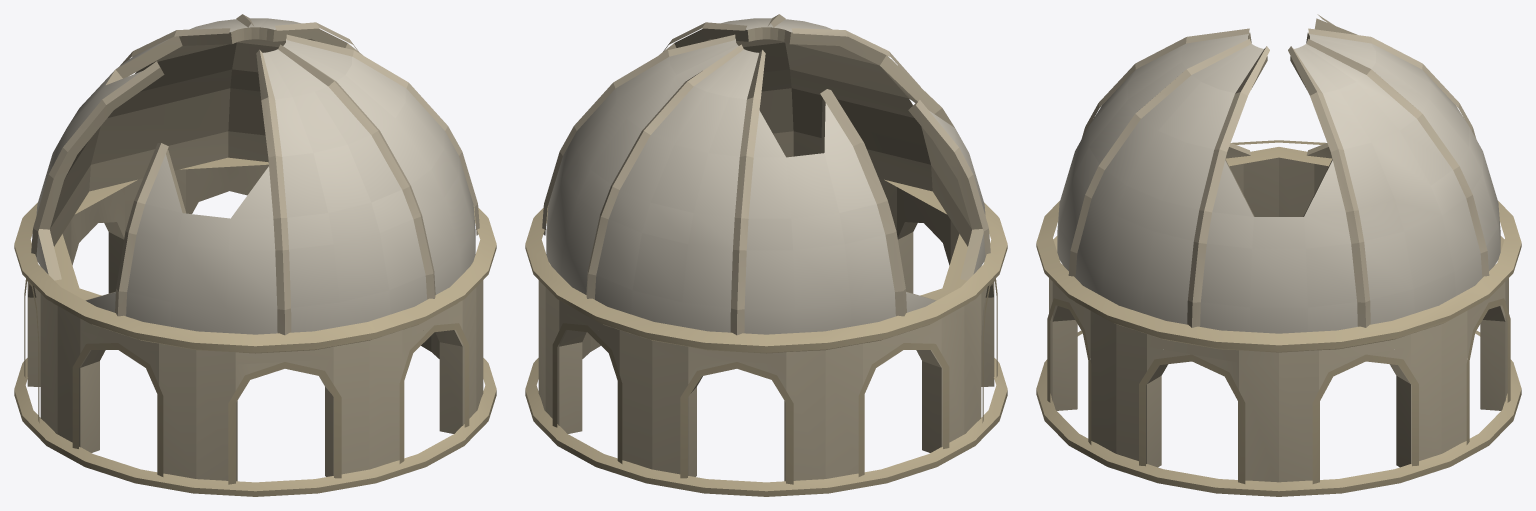
File: dome.ruin_8.plaster.glb
3 renders of one model, left to right at view 1: azimuth 30°, elevation 25°; view 2: azimuth 150°, elevation 25°; view 3: azimuth 270°, elevation 25°, orthographic.
Parts seen in each view (by area): view 1: dome_ruin_8_plaster; view 2: dome_ruin_8_plaster; view 3: dome_ruin_8_plaster.
Part boxes in pixels (x1,y1,x2,y2): dome_ruin_8_plaster: (14,14,496,496); dome_ruin_8_plaster: (525,14,1007,496); dome_ruin_8_plaster: (1036,14,1521,496).
Size of what is drawn, in the model's own units: 7.6 by 6.23 by 7.6.
